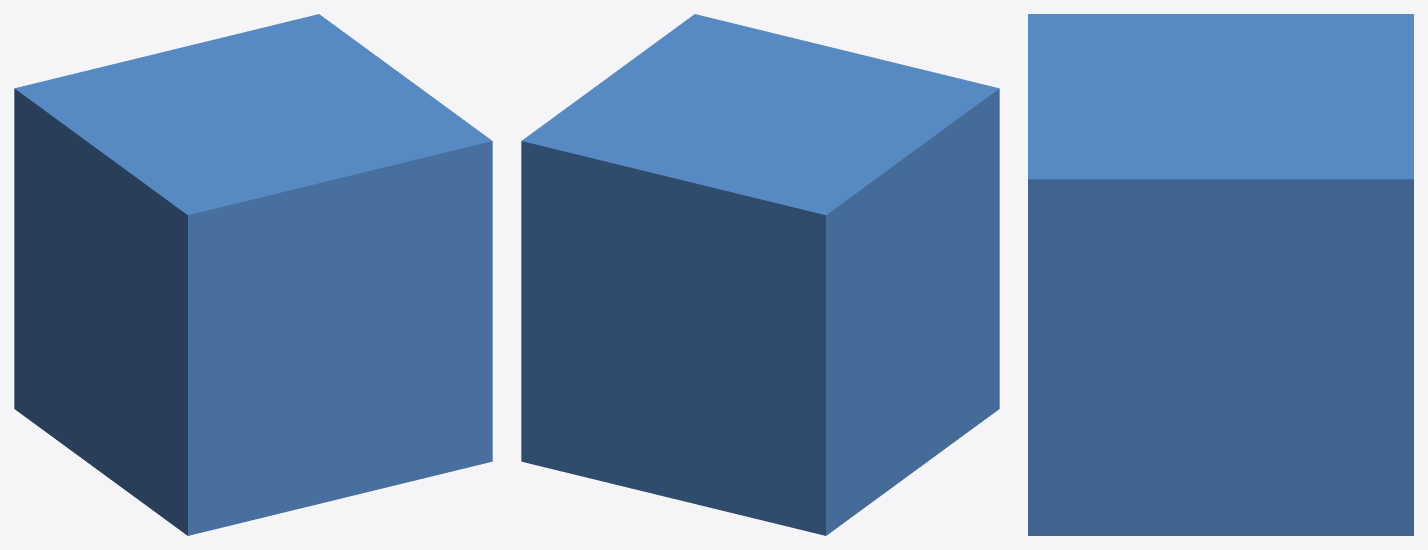
File: Forklift.fbx
3 renders of one model, left to right at view 1: azimuth 30°, elevation 25°; view 2: azimuth 150°, elevation 25°; view 3: azimuth 270°, elevation 25°, orthographic. The views are drawn at different scales.
Visible parts, largest first — view 1: Body1; view 2: Body1; view 3: Body1.
Part boxes in pixels (left/top/right/bottom): Body1: left=14, top=14, right=492, bottom=535; Body1: left=521, top=14, right=999, bottom=535; Body1: left=1028, top=14, right=1413, bottom=535.
Size of the model in its own units: 1065 by 1071 by 1050.
